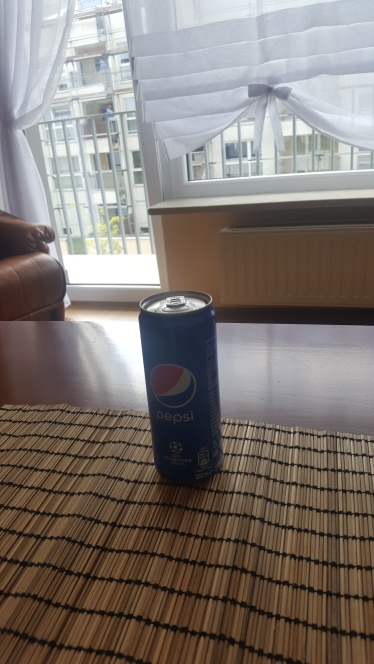pepsi: (134, 284, 229, 484)
